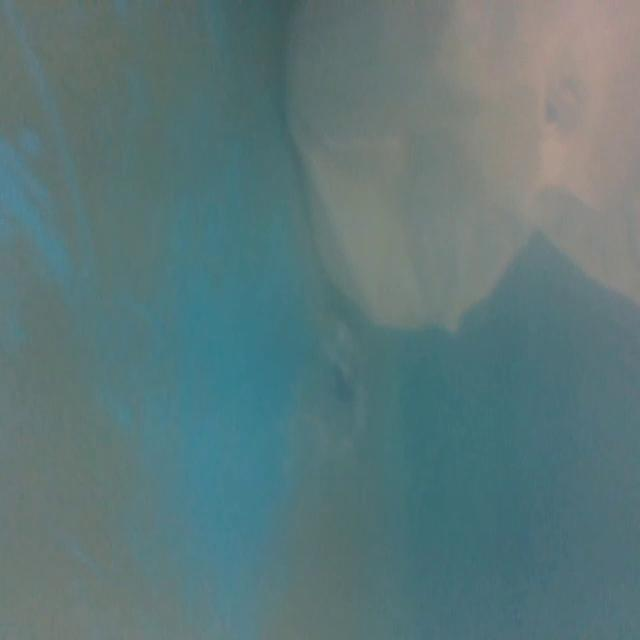plastic bags: (286, 5, 640, 335)
